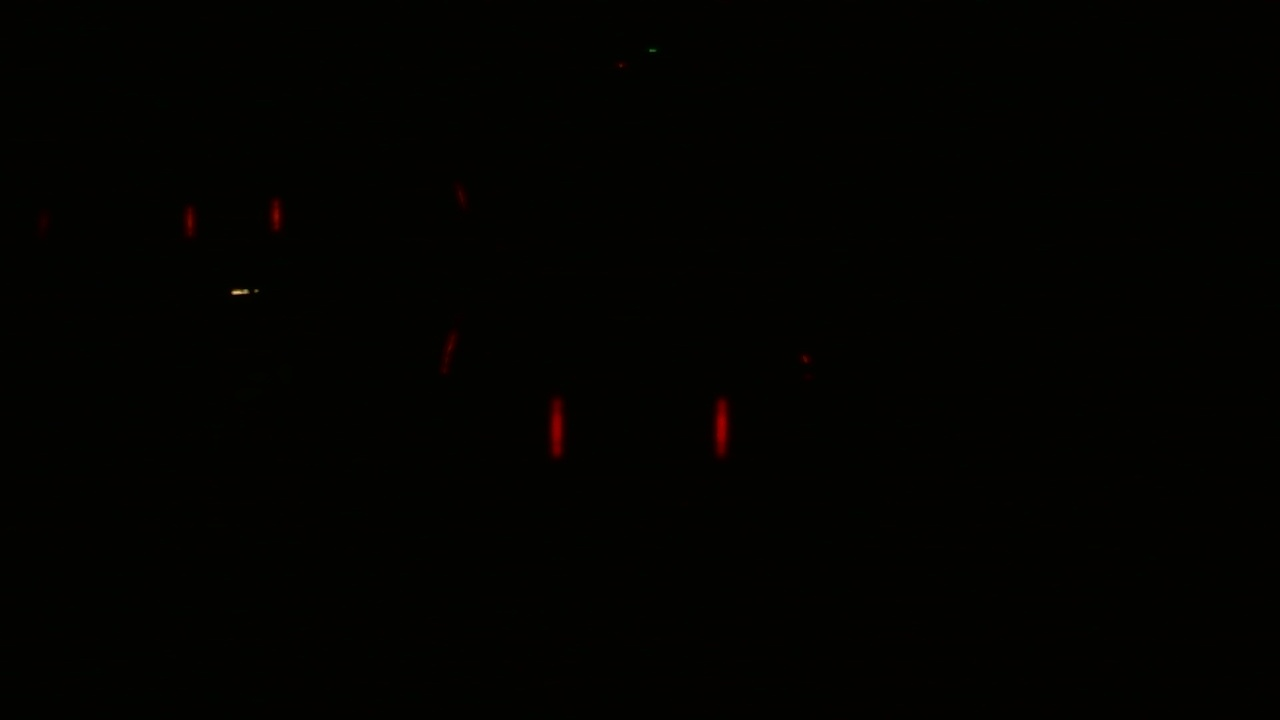pair1: (544, 383, 735, 464), (183, 193, 283, 234)
